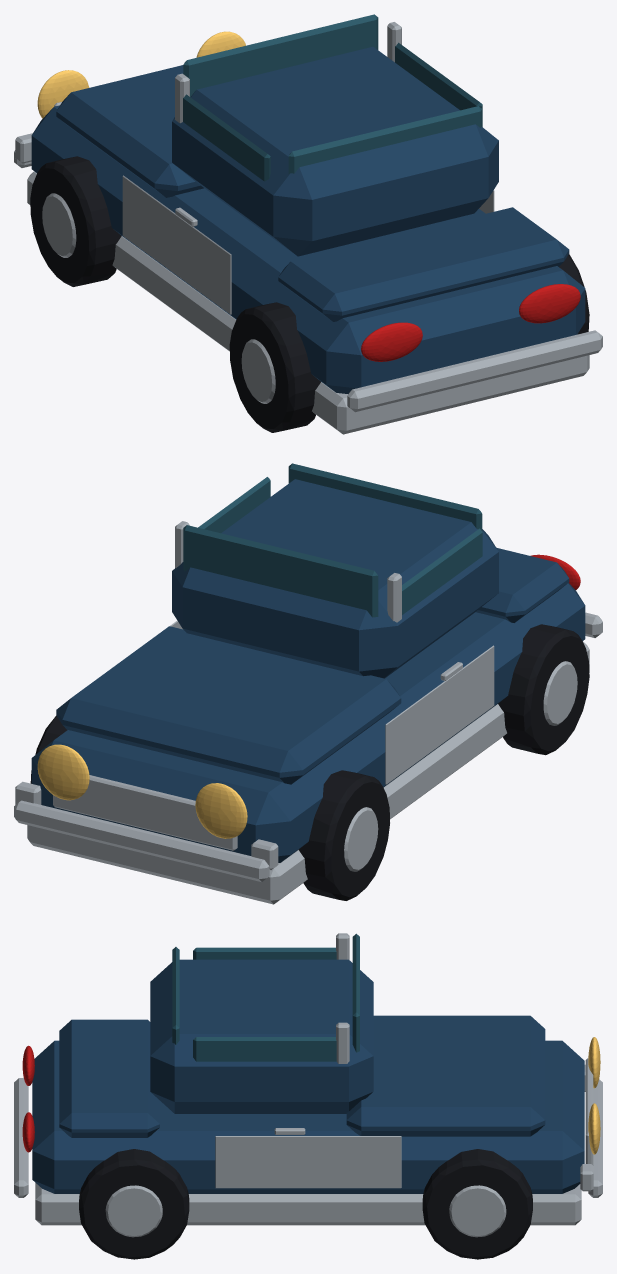
File: hero_1967_detail_lod1.fbx
The picture shows the model from 3 angles, top to bottom: view 1: azimuth 30°, elevation 25°; view 2: azimuth 150°, elevation 25°; view 3: azimuth 270°, elevation 25°; orthographic projection. The views are drawn at different scales.
Visible parts, largest first — view 1: Cabin, BodyLower, Trunk, Frame, Hood, Tire.001, Tire, DoorSeam, Windshield, RearBumper, RearGlass, SideGlass (+7 smaller); view 2: Cabin, Hood, BodyLower, Frame, Windshield, Tire, Tire.001, DoorSeam, FrontBumper, Grille, Trunk, RearGlass (+8 smaller); view 3: Cabin, BodyLower, Hood, Trunk, Frame, DoorSeam.001, Tire.002, Tire.003, SideGlass.001, AlloyHub.003, AlloyHub.002, SideGlass (+8 smaller).
Boxes of the visible parts, x1=… form: Cabin: x1=172, y1=46, x2=498, y2=256; BodyLower: x1=31, y1=105, x2=585, y2=393; Trunk: x1=278, y1=207, x2=569, y2=321; Frame: x1=27, y1=171, x2=589, y2=434; Hood: x1=56, y1=65, x2=203, y2=197; Tire.001: x1=30, y1=156, x2=121, y2=286; Tire: x1=229, y1=302, x2=320, y2=432; DoorSeam: x1=122, y1=175, x2=231, y2=314; Windshield: x1=183, y1=14, x2=378, y2=96; RearBumper: x1=347, y1=330, x2=602, y2=412; RearGlass: x1=288, y1=106, x2=482, y2=173; SideGlass: x1=183, y1=94, x2=270, y2=181; Cabin: x1=172, y1=479, x2=498, y2=678; Hood: x1=56, y1=626, x2=401, y2=784; BodyLower: x1=31, y1=583, x2=585, y2=862; Frame: x1=27, y1=641, x2=589, y2=904; Windshield: x1=183, y1=525, x2=378, y2=617; Tire: x1=498, y1=624, x2=589, y2=755; Tire.001: x1=299, y1=770, x2=389, y2=900; DoorSeam: x1=385, y1=645, x2=494, y2=784; FrontBumper: x1=14, y1=800, x2=269, y2=881; Grille: x1=53, y1=775, x2=237, y2=850; Trunk: x1=476, y1=547, x2=569, y2=622; RearGlass: x1=288, y1=463, x2=482, y2=530; Cabin: x1=150, y1=959, x2=373, y2=1113; BodyLower: x1=32, y1=1040, x2=584, y2=1193; Hood: x1=346, y1=1015, x2=545, y2=1136; Trunk: x1=59, y1=1019, x2=159, y2=1137; Frame: x1=35, y1=1183, x2=581, y2=1225; DoorSeam.001: x1=215, y1=1136, x2=401, y2=1188; Tire.002: x1=79, y1=1149, x2=189, y2=1259; Tire.003: x1=422, y1=1149, x2=532, y2=1259; SideGlass.001: x1=193, y1=1037, x2=336, y2=1061; AlloyHub.003: x1=449, y1=1185, x2=506, y2=1237; AlloyHub.002: x1=105, y1=1185, x2=162, y2=1237; SideGlass: x1=193, y1=947, x2=336, y2=959.
Size of the model in its own units: 2.48 by 2.03 by 4.8.
